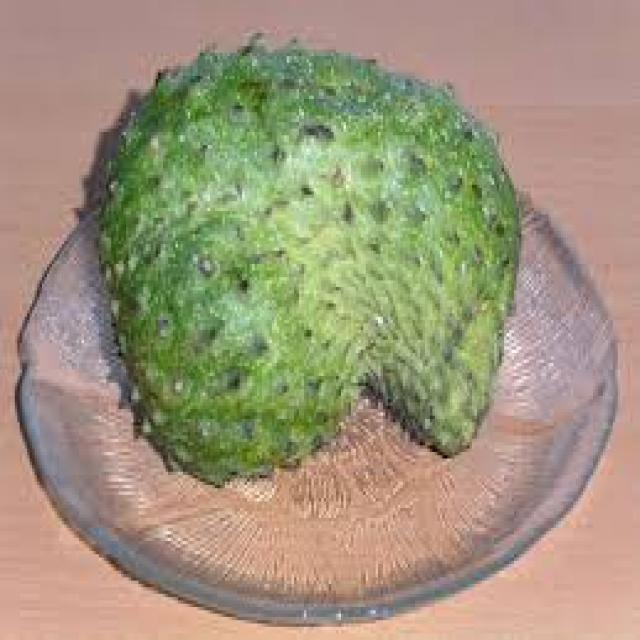organic waste: (94, 33, 519, 488)
